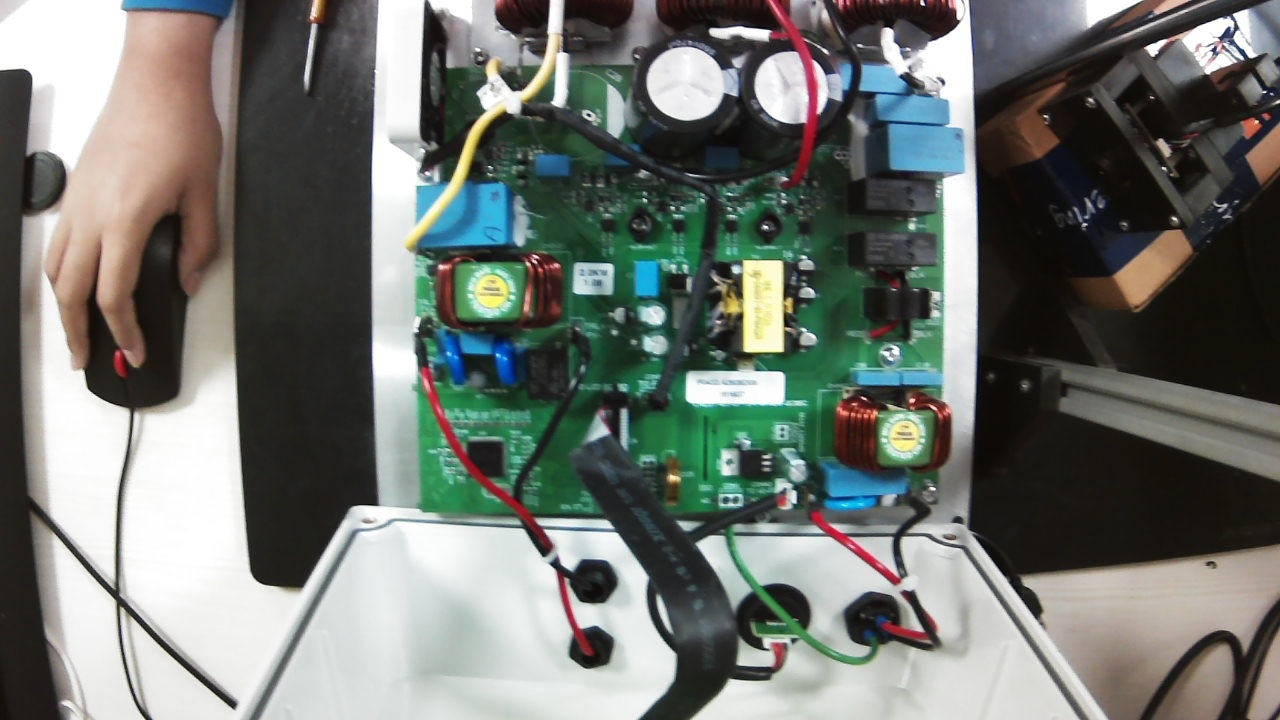solder_ball: (608, 172, 622, 186), (579, 174, 592, 188), (594, 173, 606, 187), (801, 176, 809, 193), (812, 179, 819, 190)
